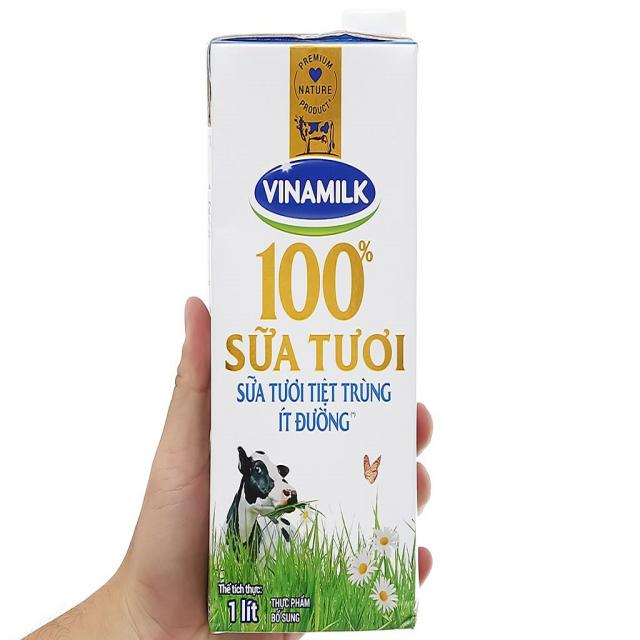non_white_jug: (188, 5, 426, 630)
